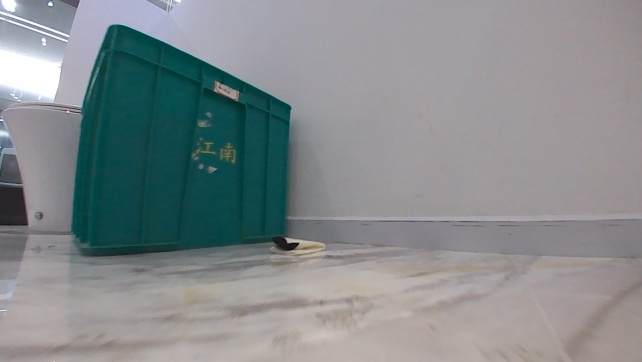socks: (264, 232, 330, 260)
toilet: (0, 95, 83, 232)
